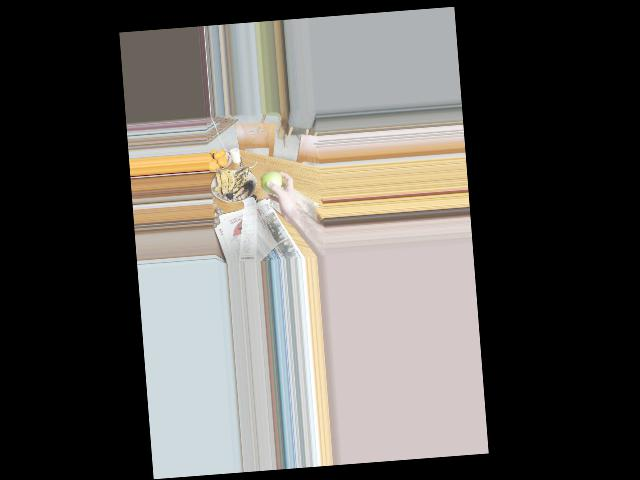apple: (259, 171, 283, 194)
